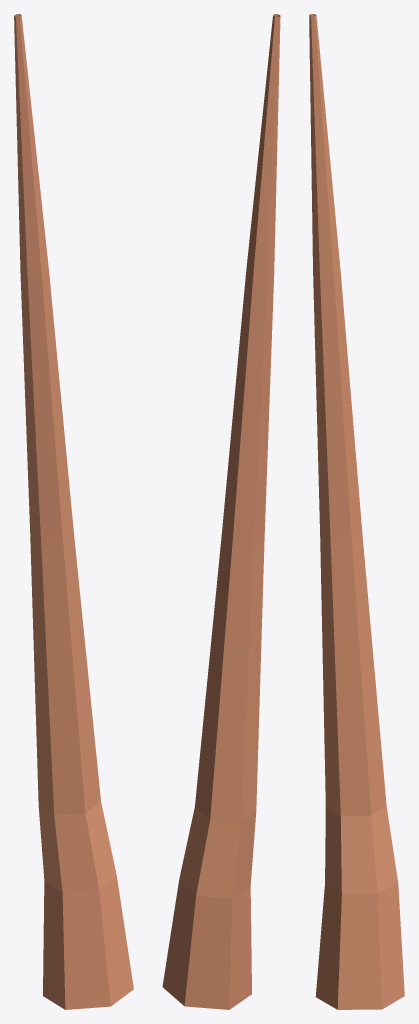
Rendered from Pine_dead.obj.
3 renders of one model, left to right at view 1: azimuth 30°, elevation 25°; view 2: azimuth 210°, elevation 25°; view 3: azimuth 330°, elevation 25°, orthographic. The views are drawn at different scales.
Parts seen in each view (by area): view 1: Pine_dead; view 2: Pine_dead; view 3: Pine_dead.
Part boxes in pixels (bbox=[...]): Pine_dead: bbox=[14, 14, 133, 1009]; Pine_dead: bbox=[162, 14, 280, 1009]; Pine_dead: bbox=[309, 14, 404, 1009].
Bounding box in the file's own units: 1.44 × 14.06 × 1.19.
